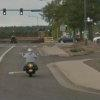Motorcycle: (15, 45, 46, 81)
